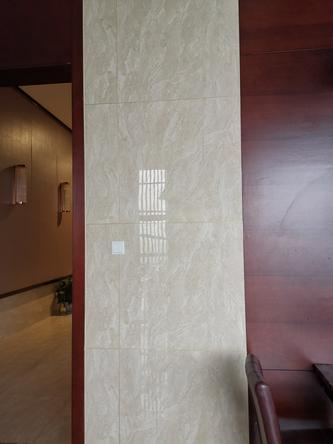switch: (112, 240, 126, 256)
